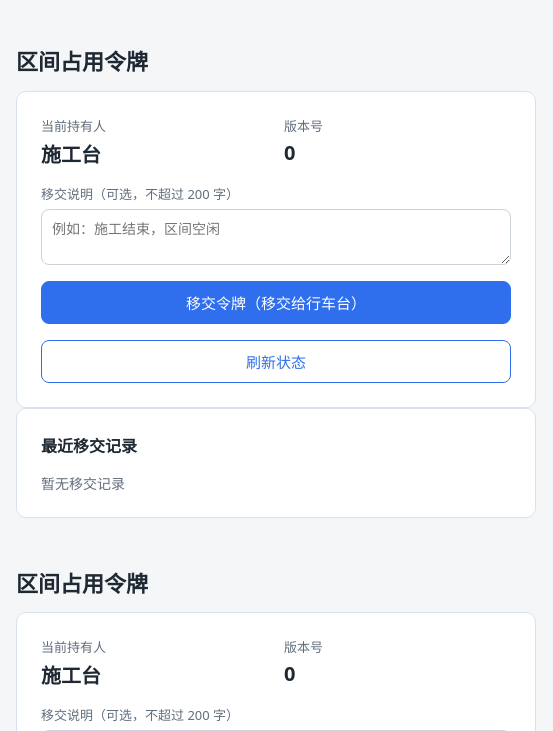
Test case: 令牌页面 › 两个浏览器同版本先后移交：失败者显示对手结果，双方不可能同时持有
A 先移交成功。
Step 1. Click the button with test id "transfer-button" → (276, 302), box top-left (41, 281), bottom-right (511, 324)
(page scrolled)
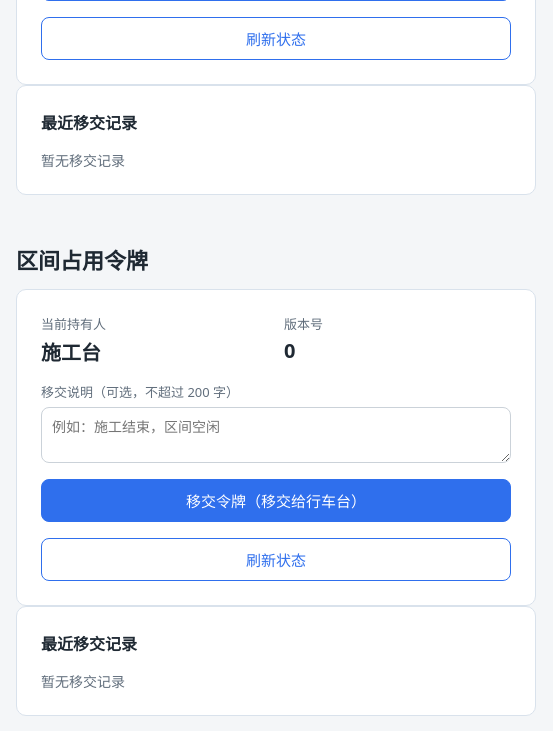
Step 2. Click the button with test id "transfer-button" showing "移交令牌（移交给行车台）" → (276, 501), box top-left (41, 480), bottom-right (511, 522)
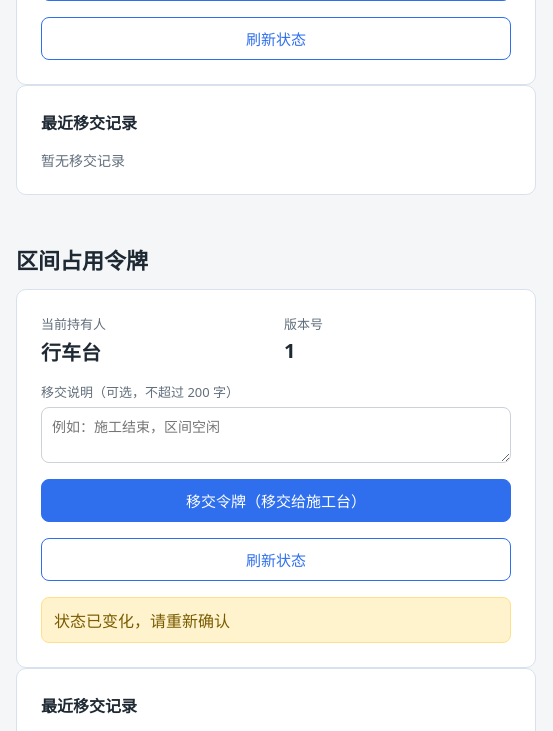
Check: the message with test id "conflict-notice" reads "状态已变化，请重新确认", box top-left (54, 610), bottom-right (230, 632)
Check: the text with test id "holder" reads "行车台", box top-left (41, 340), bottom-right (101, 366)
Check: the text with test id "version" reads "1", box top-left (284, 338), bottom-right (296, 364)
